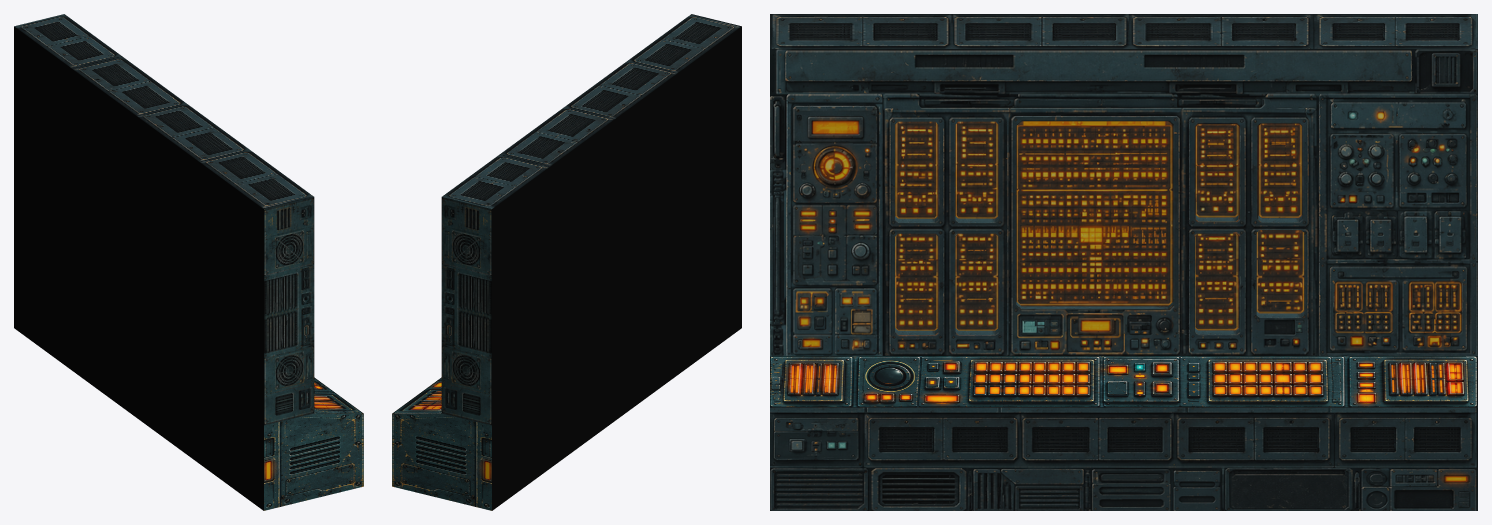
File: control_panel.glb
3 views of the same model, side by side, from view 1: azimuth 30°, elevation 25°; view 2: azimuth 150°, elevation 25°; view 3: azimuth 270°, elevation 25° (orthographic). The views are drawn at different scales.
Parts seen in each view (by area): view 1: Control Panel; view 2: Control Panel; view 3: Control Panel.
Boxes of the visible parts, left/top/right/bottom form: Control Panel: left=14, top=14, right=363, bottom=510; Control Panel: left=392, top=14, right=741, bottom=510; Control Panel: left=770, top=14, right=1477, bottom=510.
Bounding box in the file's own units: 1 × 2.89 × 4.34.
1 material, 1 textured.
